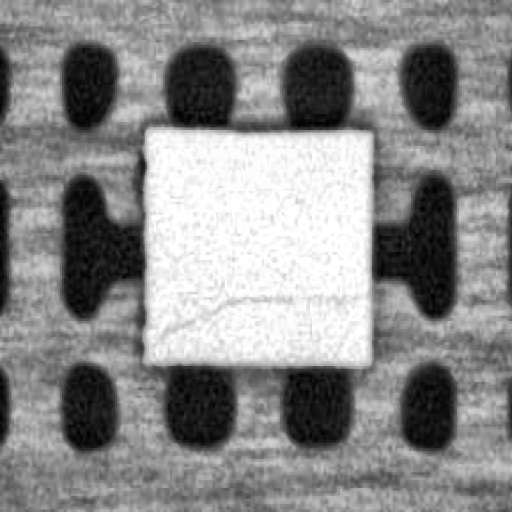DIE_CRACK: (152, 284, 364, 342)
